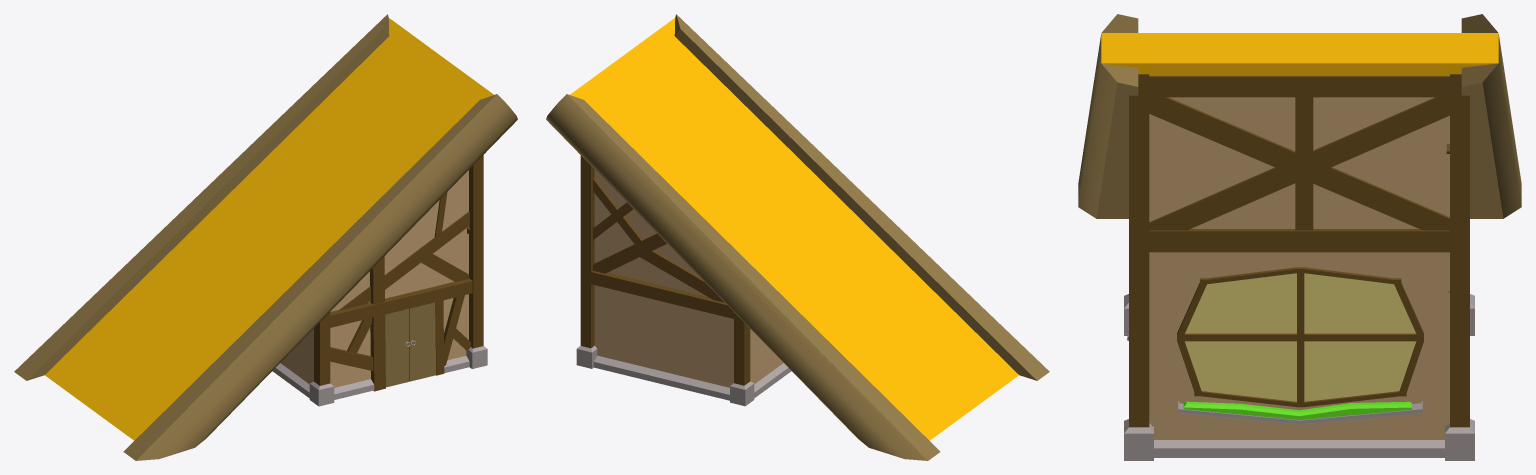
File: Modular_Houses_Ramp_House.fbx
The picture shows the model from 3 angles, left to right: view 1: azimuth 30°, elevation 25°; view 2: azimuth 150°, elevation 25°; view 3: azimuth 270°, elevation 25°; orthographic projection. The views are drawn at different scales.
Visible parts, largest first — view 1: Ramp_House; view 2: Ramp_House; view 3: Ramp_House.
Part boxes in pixels (bbox=[...]): Ramp_House: bbox=[14, 14, 517, 460]; Ramp_House: bbox=[546, 14, 1049, 460]; Ramp_House: bbox=[1078, 14, 1521, 460].
Bounding box in the file's own units: 12.92 × 8.67 × 7.64.
Materials: 1 (1 with a texture image).
